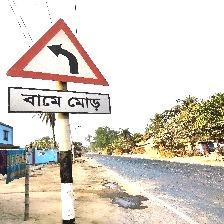Left-Turn: (5, 17, 111, 116)
